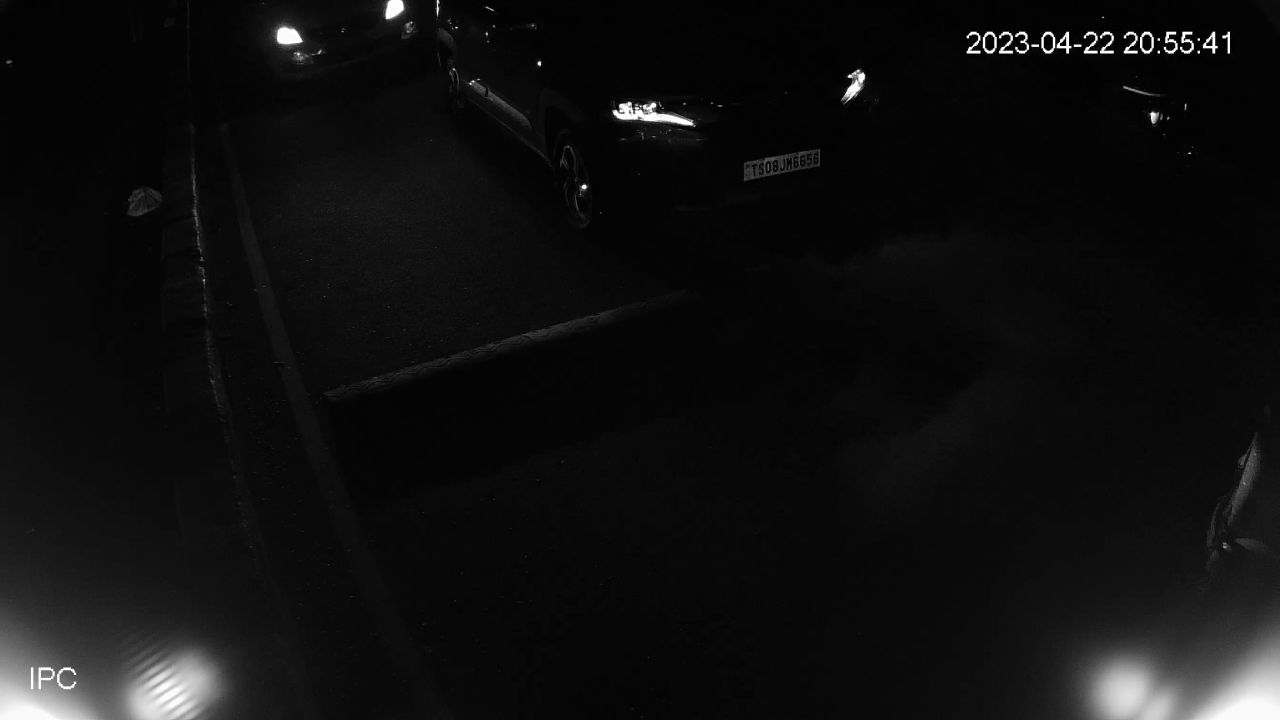license_plate: (737, 139, 830, 188)
